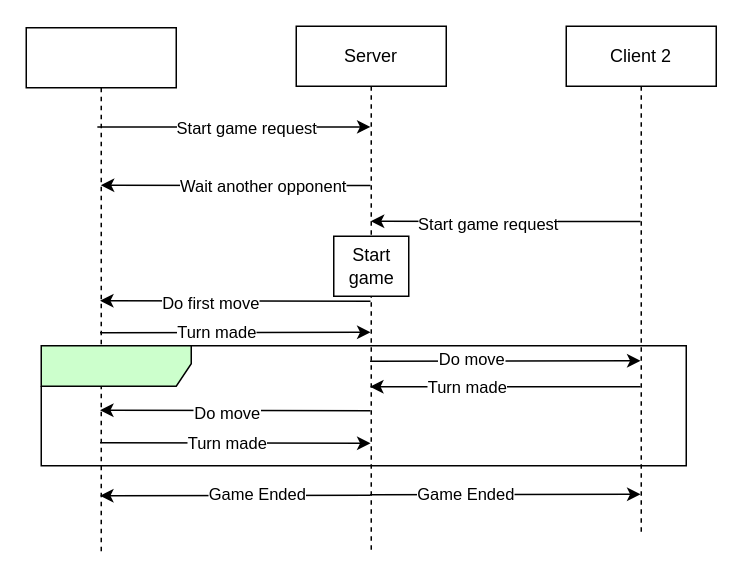
The diagram is 743 pixels wide and 579 high, and some of its shapes have lost their labels. Here are the shapes that lost their labels. From the top down, the box of each, then its label:
(25, 26, 176, 553): Client 1
(40, 344, 686, 466): loop until game end
